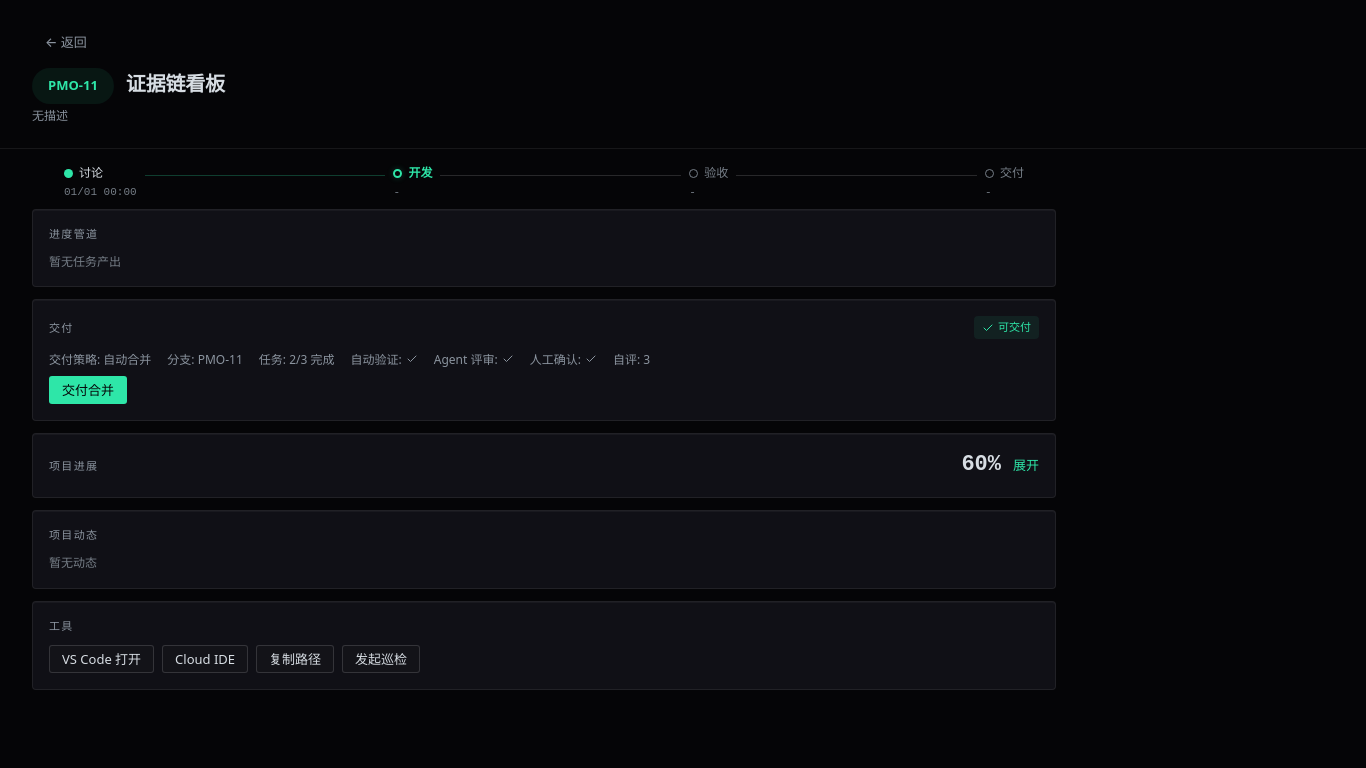
Test case: PMO-b/F6-c: 交付区块 › auto-merge：点击交付合并调 deliver，成功后显示已交付记录并禁用按钮
Expected: the text "可交付" is shown, [974, 316, 1039, 339]
Click the button "交付合并".
click(88, 390)  # box [49, 376, 127, 404]
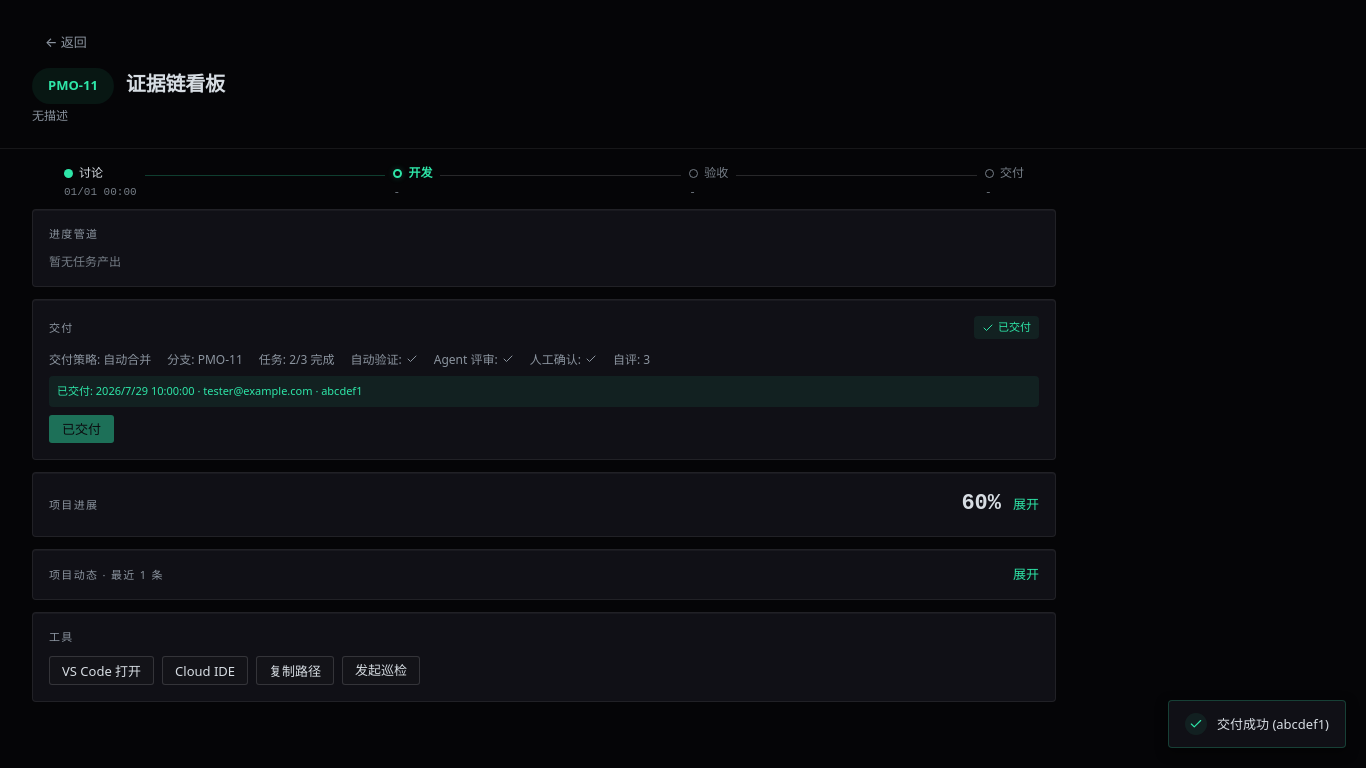
Now the text "已交付: 2026/7/29 10:00:00 · tester@example.com · abcdef1" is shown, box [49, 376, 1039, 407]
Now the 1st text "已交付" is shown, box [974, 316, 1039, 339]
Now the button "已交付" is disabled, box [49, 415, 114, 443]
